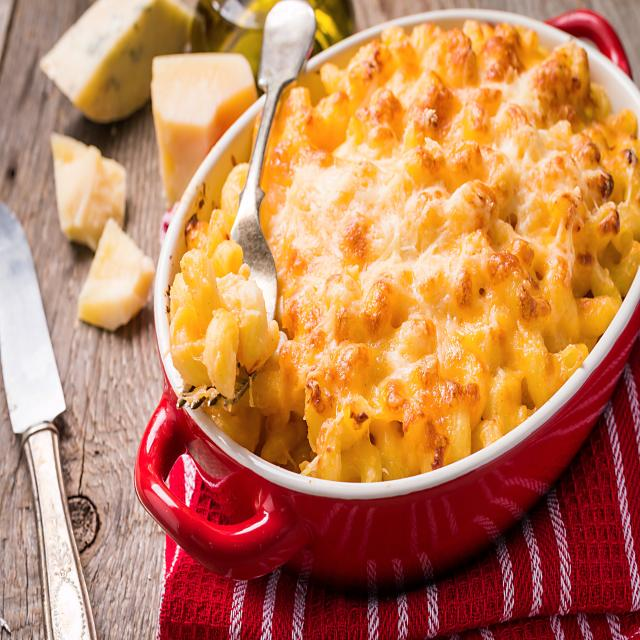pasta: (168, 25, 633, 484)
